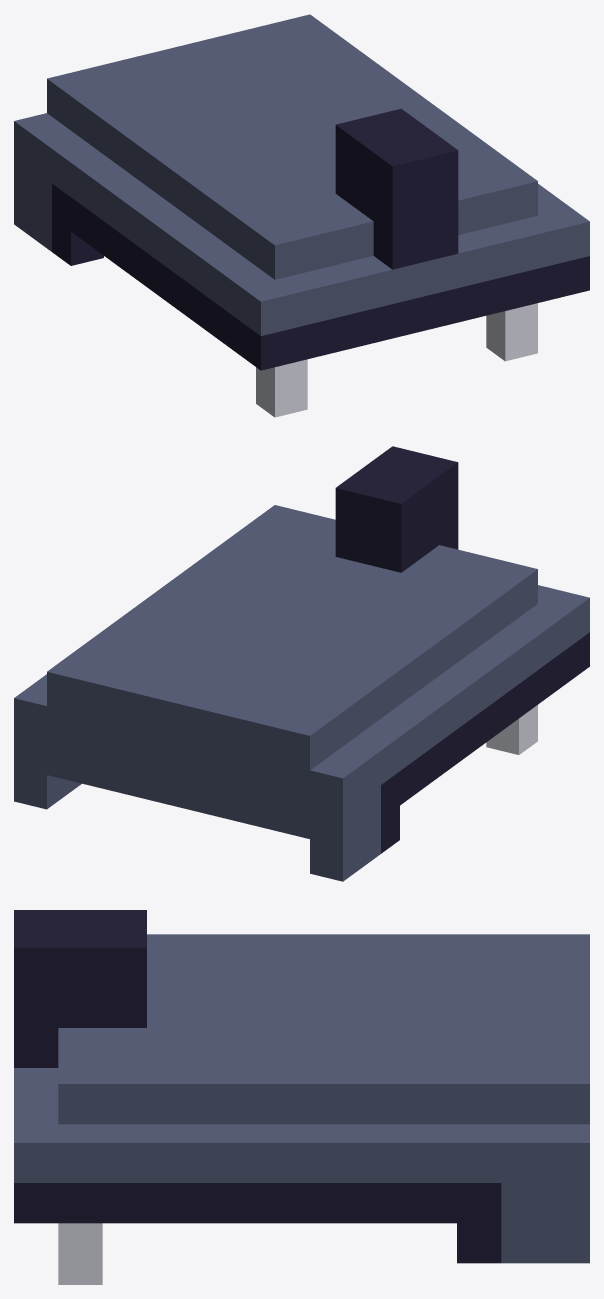
File: Anubis-0.obj
The picture shows the model from 3 angles, top to bottom: view 1: azimuth 30°, elevation 25°; view 2: azimuth 150°, elevation 25°; view 3: azimuth 270°, elevation 25°; orthographic projection. The views are drawn at different scales.
Size of the model in its own units: 1 by 0.7 by 1.3.
1 material, 1 textured.
